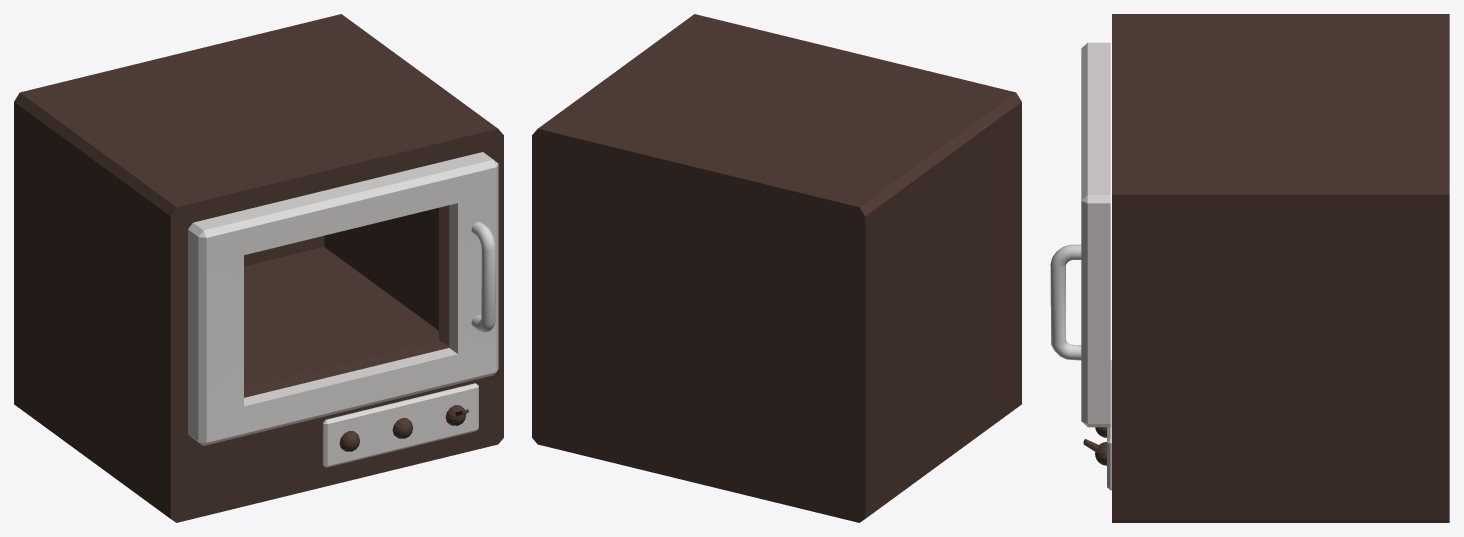
Rendered from oven.fbx.
The picture shows the model from 3 angles, left to right: view 1: azimuth 30°, elevation 25°; view 2: azimuth 150°, elevation 25°; view 3: azimuth 270°, elevation 25°; orthographic projection. The views are drawn at different scales.
Visible parts, largest first — view 1: oven1, door, panel, handle; view 2: oven1; view 3: oven1, door, handle.
Part boxes in pixels (bbox=[...]): oven1: bbox=[14, 14, 503, 522]; door: bbox=[188, 152, 498, 445]; panel: bbox=[322, 383, 478, 467]; handle: bbox=[471, 222, 495, 332]; oven1: bbox=[532, 14, 1021, 522]; oven1: bbox=[1112, 14, 1449, 522]; door: bbox=[1081, 42, 1110, 427]; handle: bbox=[1050, 244, 1081, 360].
Bounding box in the file's own units: 18.84 × 17.06 × 18.15.
